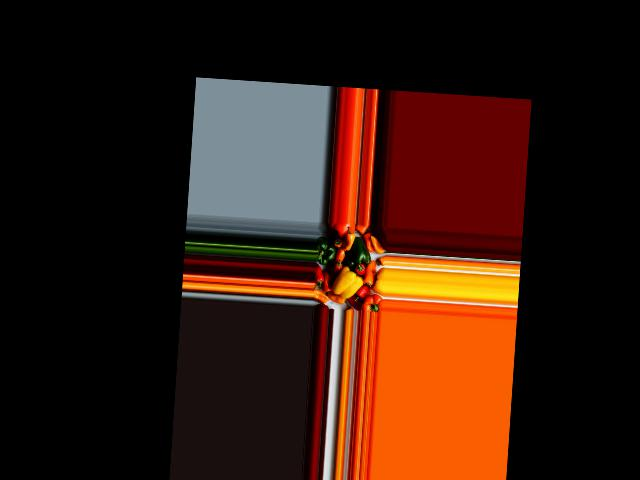bell_pepper: (313, 265, 327, 288)
